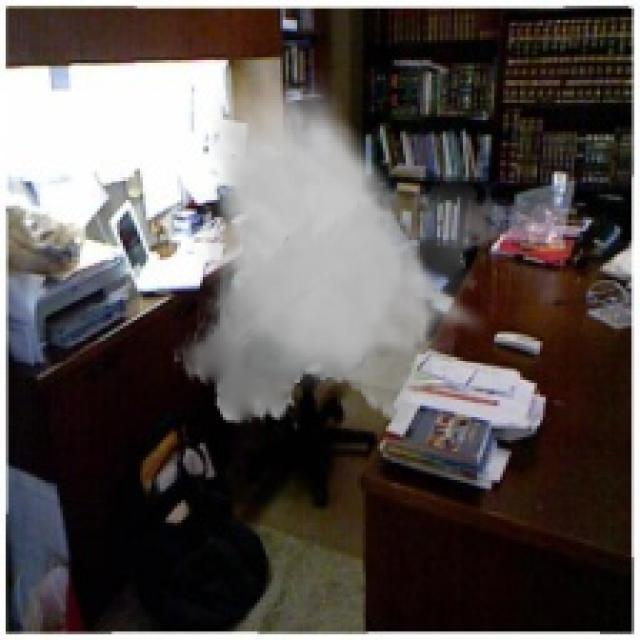Smoke: (172, 68, 517, 434)
